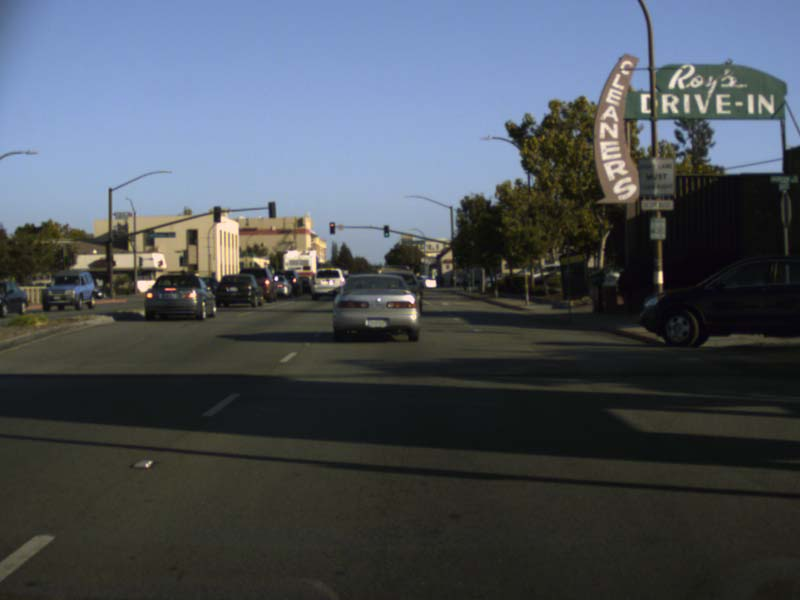Green: (383, 224, 389, 236)
Red: (329, 221, 335, 233)
